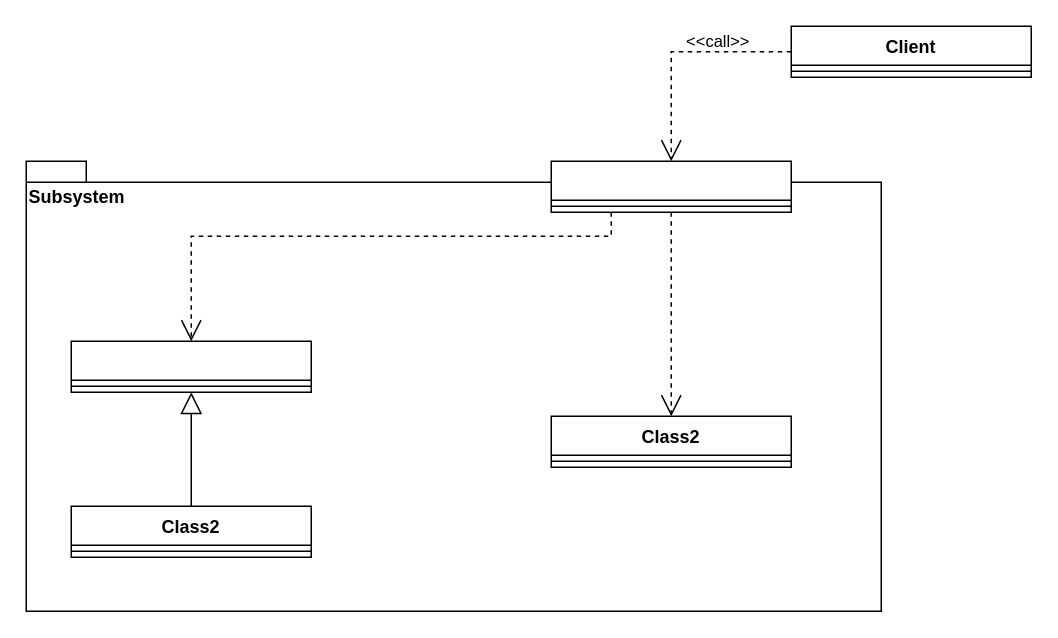
This 1058x638 diagram has some shape labels left out. The centre of each missing label's shape, as x and y in pixels:
"Class1" belongs at pixel 190 366.
"Facade" belongs at pixel 670 186.
